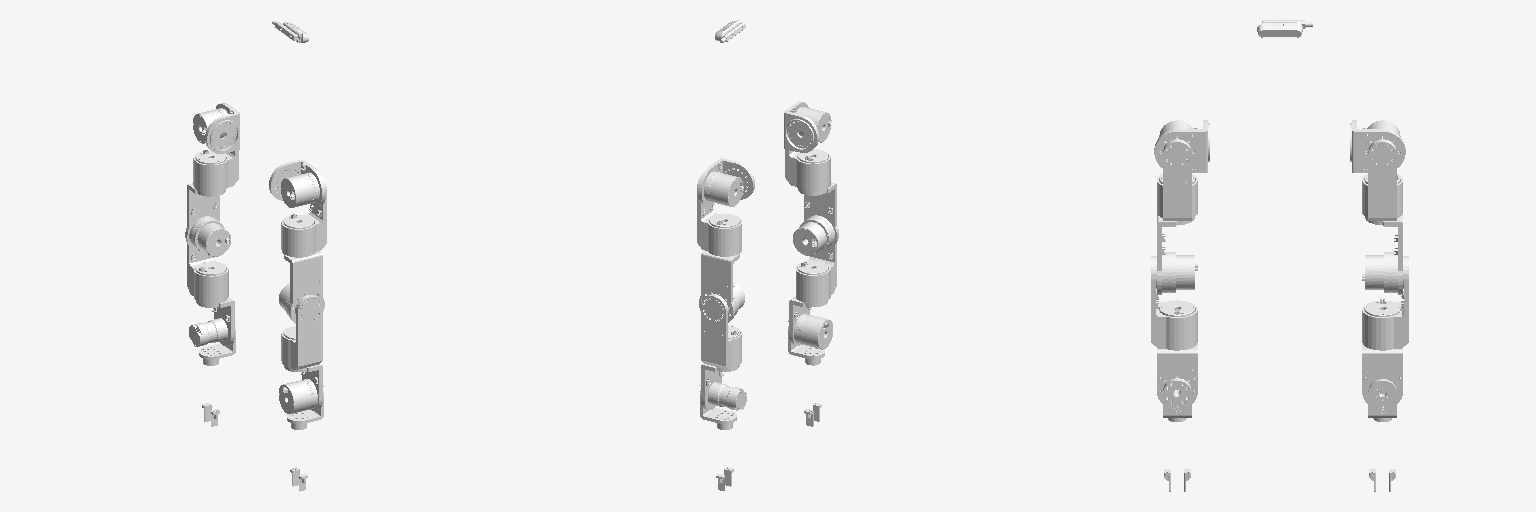
The robot description file, URDF, robot "ASMBRobot":
<?xml version="1.0" encoding="utf-8"?>
<!--
This URDF was automatically created by SolidWorks to URDF Exporter! Originally created by [author] ([email redacted])
Commit Version: 1.6.0-4-g7f85cfe  Build Version: 1.6.7995.38578
For more information, please see http://wiki.ros.org/sw_urdf_exporter
-->
<robot name="ASMBRobot">
	<webots>
		<plugin type="webots_ros2_control::Ros2Control" />
	</webots>
	<!-- Data files required by the UR driver -->
	<ros2_control name="WebotsControl" type="system">
		<hardware>
			<plugin>
				webots_ros2_control::Ros2ControlSystem
			</plugin>
		</hardware>
	</ros2_control>
	<!--
	<link name="base_footprint" />
	<joint name="base_joint" type="fixed">
	<parent link="base_footprint" />
	<child link="base_link" />
	<origin xyz="0.0 0.0 0.6" rpy="0 0 0" />
	</joint>
	-->
	<link name="base_link">
		<inertial>
			<origin xyz="-0.00023803 0.00019229 0.02" rpy="0 0 0" />
			<mass value="5.9383" />
			<inertia ixx="0.067685" ixy="2.6874E-08" ixz="-1.1686E-05" iyy="0.046713" iyz="1.2055E-06" izz="0.063819" />
		</inertial>
		<visual>
			<origin xyz="0 0 0" rpy="0 0 0" />
			<geometry>
				<mesh filename="package://assembly_robot/resource/asmb_robot/meshes/base_link.STL" />
			</geometry>
			<material name="">
				<color rgba="1 1 1 1" />
			</material>
		</visual>
		<collision>
			<origin xyz="0 0 0" rpy="0 0 0" />
			<geometry>
				<mesh filename="package://assembly_robot/resource/asmb_robot/meshes/base_link.STL" />
			</geometry>
		</collision>
	</link>
	<link name="head_camera_Link">
		<inertial>
			<origin xyz="0.013458 -0.061285 -0.0031032" rpy="0 0 0" />
			<mass value="0.061182" />
			<inertia ixx="3.911E-05" ixy="4.0531E-07" ixz="4.5885E-08" iyy="4.5618E-06" iyz="-9.4269E-08" izz="3.9266E-05" />
		</inertial>
		<visual>
			<origin xyz="0 0 0" rpy="0 0 0" />
			<geometry>
				<mesh filename="package://assembly_robot/resource/asmb_robot/meshes/head_camera_Link.STL" />
			</geometry>
			<material name="">
				<color rgba="1 1 1 1" />
			</material>
		</visual>
		<collision>
			<origin xyz="0 0 0" rpy="0 0 0" />
			<geometry>
				<mesh filename="package://assembly_robot/resource/asmb_robot/meshes/head_camera_Link.STL" />
			</geometry>
		</collision>
	</link>
	<joint name="head_camera_joint" type="revolute">
		<origin xyz="0.0875 0.065 1.6145" rpy="0 0 0" />
		<parent link="base_link" />
		<child link="head_camera_Link" />
		<axis xyz="0 1 0" />
		<limit lower="-1.57" upper="1.57" effort="100" velocity="1" />
	</joint>
	<link name="right_arm_Link1">
		<inertial>
			<origin xyz="0.011228 -0.043139 9.719E-07" rpy="0 0 0" />
			<mass value="0.37147" />
			<inertia ixx="0.00033016" ixy="4.0254E-05" ixz="-9.06E-08" iyy="0.0003504" iyz="-3.4341E-08" izz="0.00035955" />
		</inertial>
		<visual>
			<origin xyz="0 0 0" rpy="0 0 0" />
			<geometry>
				<mesh filename="package://assembly_robot/resource/asmb_robot/meshes/right_arm_Link1.STL" />
			</geometry>
			<material name="">
				<color rgba="1 1 1 1" />
			</material>
		</visual>
		<collision>
			<origin xyz="0 0 0" rpy="0 0 0" />
			<geometry>
				<mesh filename="package://assembly_robot/resource/asmb_robot/meshes/right_arm_Link1.STL" />
			</geometry>
		</collision>
	</link>
	<joint name="right_arm_joint1" type="revolute">
		<origin xyz="0 -0.1469 1.319" rpy="0 0 0" />
		<parent link="base_link" />
		<child link="right_arm_Link1" />
		<axis xyz="0 -1 0" />
		<limit lower="-3.14" upper="3.14" effort="100" velocity="1" />
	</joint>
	<link name="right_arm_Link2">
		<inertial>
			<origin xyz="-0.043622 -1.7909E-05 -0.10408" rpy="0 0 0" />
			<mass value="0.47028" />
			<inertia ixx="0.00068469" ixy="-3.4424E-08" ixz="-0.00011014" iyy="0.00076516" iyz="2.6661E-07" izz="0.00042244" />
		</inertial>
		<visual>
			<origin xyz="0 0 0" rpy="0 0 0" />
			<geometry>
				<mesh filename="package://assembly_robot/resource/asmb_robot/meshes/right_arm_Link2.STL" />
			</geometry>
			<material name="">
				<color rgba="1 1 1 1" />
			</material>
		</visual>
		<collision>
			<origin xyz="0 0 0" rpy="0 0 0" />
			<geometry>
				<mesh filename="package://assembly_robot/resource/asmb_robot/meshes/right_arm_Link2.STL" />
			</geometry>
		</collision>
	</link>
	<joint name="right_arm_joint2" type="revolute">
		<origin xyz="0.057 -0.0536 0" rpy="0 0 0" />
		<parent link="right_arm_Link1" />
		<child link="right_arm_Link2" />
		<axis xyz="-1 0 0" />
		<limit lower="0" upper="3.14" effort="100" velocity="1" />
	</joint>
	<link name="right_arm_Link3">
		<inertial>
			<origin xyz="-9.1848E-11 -0.025876 -0.041251" rpy="0 0 0" />
			<mass value="0.12999" />
			<inertia ixx="0.00030536" ixy="-5.266E-13" ixz="9.7607E-11" iyy="0.00034017" iyz="-5.0968E-05" izz="0.00011537" />
		</inertial>
		<visual>
			<origin xyz="0 0 0" rpy="0 0 0" />
			<geometry>
				<mesh filename="package://assembly_robot/resource/asmb_robot/meshes/right_arm_Link3.STL" />
			</geometry>
			<material name="">
				<color rgba="1 1 1 1" />
			</material>
		</visual>
		<collision>
			<origin xyz="0 0 0" rpy="0 0 0" />
			<geometry>
				<mesh filename="package://assembly_robot/resource/asmb_robot/meshes/right_arm_Link3.STL" />
			</geometry>
		</collision>
	</link>
	<joint name="right_arm_joint3" type="revolute">
		<origin xyz="-0.057 0 -0.15815" rpy="0 0 0" />
		<parent link="right_arm_Link2" />
		<child link="right_arm_Link3" />
		<axis xyz="0 0 -1" />
		<limit lower="-3.14" upper="3.14" effort="100" velocity="1" />
	</joint>
	<link name="right_arm_Link4">
		<inertial>
			<origin xyz="-1.7652E-05 0.039272 -0.10244" rpy="0 0 0" />
			<mass value="0.47713" />
			<inertia ixx="0.00079717" ixy="3.4424E-08" ixz="2.6365E-07" iyy="0.00075314" iyz="0.00011151" izz="0.00042587" />
		</inertial>
		<visual>
			<origin xyz="0 0 0" rpy="0 0 0" />
			<geometry>
				<mesh filename="package://assembly_robot/resource/asmb_robot/meshes/right_arm_Link4.STL" />
			</geometry>
			<material name="">
				<color rgba="1 1 1 1" />
			</material>
		</visual>
		<collision>
			<origin xyz="0 0 0" rpy="0 0 0" />
			<geometry>
				<mesh filename="package://assembly_robot/resource/asmb_robot/meshes/right_arm_Link4.STL" />
			</geometry>
		</collision>
	</link>
	<joint name="right_arm_joint4" type="revolute">
		<origin xyz="0 -0.052 -0.12135" rpy="0 0 0" />
		<parent link="right_arm_Link3" />
		<child link="right_arm_Link4" />
		<axis xyz="0 1 0" />
		<limit lower="-1.57" upper="1.57" effort="100" velocity="1" />
	</joint>
	<link name="right_arm_Link5">
		<inertial>
			<origin xyz="0.00832510191125416 -7.31447708185451E-06 -0.0647333672491731" rpy="0 0 0" />
			<mass value="0.36518735117001" />
			<inertia ixx="0.000323872947540741" ixy="-9.05997247207879E-08" ixz="3.06026099110981E-05" iyy="0.00034125199153883" iyz="3.03261364900966E-08" izz="0.000291712635621284" />
		</inertial>
		<visual>
			<origin xyz="0 0 0" rpy="0 0 0" />
			<geometry>
				<mesh filename="package://assembly_robot/resource/asmb_robot/meshes/right_arm_Link5.STL" />
			</geometry>
			<material name="">
				<color rgba="1 1 1 1" />
			</material>
		</visual>
		<collision>
			<origin xyz="0 0 0" rpy="0 0 0" />
			<geometry>
				<mesh filename="package://assembly_robot/resource/asmb_robot/meshes/right_arm_Link5.STL" />
			</geometry>
		</collision>
	</link>
	<joint name="right_arm_joint5" type="revolute">
		<origin xyz="0 0.052 -0.15815" rpy="0 0 0" />
		<parent link="right_arm_Link4" />
		<child link="right_arm_Link5" />
		<axis xyz="0 0 -1" />
		<limit lower="-3.14" upper="3.14" effort="100" velocity="1" />
	</joint>
	<link name="right_arm_Link6">
		<inertial>
			<origin xyz="-0.0284421308334516 -8.96964113533683E-06 -0.043090657269692" rpy="0 0 0" />
			<mass value="0.0772380702383185" />
			<inertia ixx="4.9946590615964E-05" ixy="-9.96241233945074E-09" ixz="-1.77191875127423E-05" iyy="6.34897666656896E-05" iyz="-1.90103058951182E-09" izz="4.59682165131106E-05" />
		</inertial>
		<visual>
			<origin xyz="0 0 0" rpy="0 0 0" />
			<geometry>
				<mesh filename="package://assembly_robot/resource/asmb_robot/meshes/right_arm_Link6.STL" />
			</geometry>
			<material name="">
				<color rgba="1 1 1 1" />
			</material>
		</visual>
		<collision>
			<origin xyz="0 0 0" rpy="0 0 0" />
			<geometry>
				<mesh filename="package://assembly_robot/resource/asmb_robot/meshes/right_arm_Link6.STL" />
			</geometry>
		</collision>
	</link>
	<joint name="right_arm_joint6" type="revolute">
		<origin xyz="0.05 0 -0.07985" rpy="0 0 0" />
		<parent link="right_arm_Link5" />
		<child link="right_arm_Link6" />
		<axis xyz="1 0 0" />
		<limit lower="-1.57" upper="1.57" effort="100" velocity="1" />
	</joint>
	<link name="right_arm_Link7">
		<inertial>
			<origin xyz="0.00714396022442265 0.00235971596269616 -0.073770341517848" rpy="0 0 0" />
			<mass value="0.235933563807994" />
			<inertia ixx="9.62557687249357E-05" ixy="1.48559640171866E-07" ixz="1.56010275519695E-06" iyy="6.87705932277823E-05" iyz="1.66743745289563E-08" izz="6.39512853060415E-05" />
		</inertial>
		<visual>
			<origin xyz="0 0 0" rpy="0 0 0" />
			<geometry>
				<mesh filename="package://assembly_robot/resource/asmb_robot/meshes/right_arm_Link7.STL" />
			</geometry>
			<material name="">
				<color rgba="1 1 1 1" />
			</material>
		</visual>
		<collision>
			<origin xyz="0 0 0" rpy="0 0 0" />
			<geometry>
				<mesh filename="package://assembly_robot/resource/asmb_robot/meshes/right_arm_Link7.STL" />
			</geometry>
		</collision>
	</link>
	<joint name="right_arm_joint7" type="revolute">
		<origin xyz="-0.05 0 -0.067" rpy="0 0 0" />
		<parent link="right_arm_Link6" />
		<child link="right_arm_Link7" />
		<axis xyz="0 0 -1" />
		<limit lower="-3.14" upper="3.14" effort="100" velocity="1" />
	</joint>
	<link name="right_finger_link1">
		<inertial>
			<origin xyz="0.00378952208500735 0.18602302823187 0.213635882113623" rpy="0 0 0" />
			<mass value="10.2661535963727" />
			<inertia ixx="3.02922806964106" ixy="-6.90053325021604E-05" ixz="-0.0136693947650833" iyy="2.82305694426368" iyz="-0.00110155202987456" izz="0.262090473602717" />
		</inertial>
		<visual>
			<origin xyz="0 0 0" rpy="0 0 0" />
			<geometry>
				<mesh filename="package://assembly_robot/resource/asmb_robot/meshes/right_finger_link1.STL" />
			</geometry>
			<material name="">
				<color rgba="1 1 1 1" />
			</material>
		</visual>
		<collision>
			<origin xyz="0 0 0" rpy="0 0 0" />
			<geometry>
				<mesh filename="package://assembly_robot/resource/asmb_robot/meshes/right_finger_link1.STL" />
			</geometry>
		</collision>
	</link>
	<joint name="right_finger_joint1" type="prismatic">
		<origin xyz="0 0.013 -0.1435" rpy="0 0 0" />
		<parent link="right_arm_Link7" />
		<child link="right_finger_link1" />
		<axis xyz="0 1 0" />
		<limit lower="-0.013" upper="0" effort="100" velocity="1" />
	</joint>
	<link name="right_finger_link2">
		<inertial>
			<origin xyz="0.00378952208500025 0.21202302823187 0.213635882113621" rpy="0 0 0" />
			<mass value="10.2661535963727" />
			<inertia ixx="3.02922806964106" ixy="-6.90053325021583E-05" ixz="-0.0136693947650833" iyy="2.82305694426368" iyz="-0.00110155202987454" izz="0.262090473602717" />
		</inertial>
		<visual>
			<origin xyz="0 0 0" rpy="0 0 0" />
			<geometry>
				<mesh filename="package://assembly_robot/resource/asmb_robot/meshes/right_finger_link2.STL" />
			</geometry>
			<material name="">
				<color rgba="1 1 1 1" />
			</material>
		</visual>
		<collision>
			<origin xyz="0 0 0" rpy="0 0 0" />
			<geometry>
				<mesh filename="package://assembly_robot/resource/asmb_robot/meshes/right_finger_link2.STL" />
			</geometry>
		</collision>
	</link>
	<joint name="right_finger_joint2" type="prismatic">
		<origin xyz="0 -0.013 -0.1435" rpy="0 0 0" />
		<parent link="right_arm_Link7" />
		<child link="right_finger_link2" />
		<axis xyz="0 1 0" />
		<limit lower="0" upper="0.013" effort="100" velocity="1" />
	</joint>
	<link name="left_arm_Link1">
		<inertial>
			<origin xyz="0 0 0" rpy="0 0 0" />
			<mass value="0" />
			<inertia ixx="0" ixy="0" ixz="0" iyy="0" iyz="0" izz="0" />
		</inertial>
		<visual>
			<origin xyz="0 0 0" rpy="0 0 0" />
			<geometry>
				<mesh filename="package://assembly_robot/resource/asmb_robot/meshes/left_arm_Link1.STL" />
			</geometry>
			<material name="">
				<color rgba="1 1 1 1" />
			</material>
		</visual>
		<collision>
			<origin xyz="0 0 0" rpy="0 0 0" />
			<geometry>
				<mesh filename="package://assembly_robot/resource/asmb_robot/meshes/left_arm_Link1.STL" />
			</geometry>
		</collision>
	</link>
	<joint name="left_arm_joint1" type="revolute">
		<origin xyz="0 0.1469 1.319" rpy="0 0 0" />
		<parent link="base_link" />
		<child link="left_arm_Link1" />
		<axis xyz="0 1 0" />
		<limit lower="-3.14" upper="3.14" effort="100" velocity="1" />
	</joint>
	<link name="left_arm_Link2">
		<inertial>
			<origin xyz="-0.0436219172708804 -1.79087728571503E-05 -0.104081408006254" rpy="0 0 0" />
			<mass value="0.470284076871094" />
			<inertia ixx="0.000684685263285664" ixy="-3.44237436292327E-08" ixz="-0.000110141059333714" iyy="0.00076515581421316" iyz="2.6754057934791E-07" izz="0.000422436110263861" />
		</inertial>
		<visual>
			<origin xyz="0 0 0" rpy="0 0 0" />
			<geometry>
				<mesh filename="package://assembly_robot/resource/asmb_robot/meshes/left_arm_Link2.STL" />
			</geometry>
			<material name="">
				<color rgba="1 1 1 1" />
			</material>
		</visual>
		<collision>
			<origin xyz="0 0 0" rpy="0 0 0" />
			<geometry>
				<mesh filename="package://assembly_robot/resource/asmb_robot/meshes/left_arm_Link2.STL" />
			</geometry>
		</collision>
	</link>
	<joint name="left_arm_joint2" type="revolute">
		<origin xyz="0.057 0.0536 0" rpy="0 0 0" />
		<parent link="left_arm_Link1" />
		<child link="left_arm_Link2" />
		<axis xyz="-1 0 0" />
		<limit lower="-3.14" upper="0" effort="100" velocity="1" />
	</joint>
	<link name="left_arm_Link3">
		<inertial>
			<origin xyz="1.00064317942739E-10 0.025875590268055 -0.0412507797749025" rpy="0 0 0" />
			<mass value="0.129990371419528" />
			<inertia ixx="0.00030535462683607" ixy="-5.23857015698888E-13" ixz="-4.57957977787833E-09" iyy="0.000340167432870768" iyz="5.09681758668033E-05" izz="0.000115373694611261" />
		</inertial>
		<visual>
			<origin xyz="0 0 0" rpy="0 0 0" />
			<geometry>
				<mesh filename="package://assembly_robot/resource/asmb_robot/meshes/left_arm_Link3.STL" />
			</geometry>
			<material name="">
				<color rgba="1 1 1 1" />
			</material>
		</visual>
		<collision>
			<origin xyz="0 0 0" rpy="0 0 0" />
			<geometry>
				<mesh filename="package://assembly_robot/resource/asmb_robot/meshes/left_arm_Link3.STL" />
			</geometry>
		</collision>
	</link>
	<joint name="left_arm_joint3" type="revolute">
		<origin xyz="-0.057 0 -0.15815" rpy="0 0 0" />
		<parent link="left_arm_Link2" />
		<child link="left_arm_Link3" />
		<axis xyz="0 0 -1" />
		<limit lower="-3.14" upper="3.14" effort="100" velocity="1" />
	</joint>
	<link name="left_arm_Link4">
		<inertial>
			<origin xyz="1.12949191619499E-05 -0.0392744601445019 -0.10245015779141" rpy="0 0 0" />
			<mass value="0.477207553120282" />
			<inertia ixx="0.000797172405509101" ixy="3.44237427553357E-08" ixz="-2.66192892767085E-07" iyy="0.000753136152735815" iyz="-0.00011150721555429" izz="0.000425870669836482" />
		</inertial>
		<visual>
			<origin xyz="0 0 0" rpy="0 0 0" />
			<geometry>
				<mesh filename="package://assembly_robot/resource/asmb_robot/meshes/left_arm_Link4.STL" />
			</geometry>
			<material name="">
				<color rgba="1 1 1 1" />
			</material>
		</visual>
		<collision>
			<origin xyz="0 0 0" rpy="0 0 0" />
			<geometry>
				<mesh filename="package://assembly_robot/resource/asmb_robot/meshes/left_arm_Link4.STL" />
			</geometry>
		</collision>
	</link>
	<joint name="left_arm_joint4" type="revolute">
		<origin xyz="0 0.052 -0.12135" rpy="0 0 0" />
		<parent link="left_arm_Link3" />
		<child link="left_arm_Link4" />
		<axis xyz="0 -1 0" />
		<limit lower="-1.57" upper="1.57" effort="100" velocity="1" />
	</joint>
	<link name="left_arm_Link5">
		<inertial>
			<origin xyz="0.0246929115734381 2.54604670679726E-12 -0.0280331375827695" rpy="0 0 0" />
			<mass value="0.114969387635768" />
			<inertia ixx="0.000214486666563017" ixy="8.18193675974143E-16" ixz="3.95787812577454E-05" iyy="0.000191507007785459" iyz="-8.02454238603924E-10" izz="0.000100328294143232" />
		</inertial>
		<visual>
			<origin xyz="0 0 0" rpy="0 0 0" />
			<geometry>
				<mesh filename="package://assembly_robot/resource/asmb_robot/meshes/left_arm_Link5.STL" />
			</geometry>
			<material name="">
				<color rgba="1 1 1 1" />
			</material>
		</visual>
		<collision>
			<origin xyz="0 0 0" rpy="0 0 0" />
			<geometry>
				<mesh filename="package://assembly_robot/resource/asmb_robot/meshes/left_arm_Link5.STL" />
			</geometry>
		</collision>
	</link>
	<joint name="left_arm_joint5" type="revolute">
		<origin xyz="0 -0.052 -0.162" rpy="0 0 0" />
		<parent link="left_arm_Link4" />
		<child link="left_arm_Link5" />
		<axis xyz="0 0 -1" />
		<limit lower="-3.14" upper="3.14" effort="100" velocity="1" />
	</joint>
	<link name="left_arm_Link6">
		<inertial>
			<origin xyz="-0.0205835191216947 3.86713536193461E-09 -0.0390232072359369" rpy="0 0 0" />
			<mass value="0.0852865509434714" />
			<inertia ixx="5.88864912715646E-05" ixy="-1.04321646173082E-08" ixz="-2.04059095589276E-05" iyy="7.27736472314995E-05" iyz="-8.94605628178208E-09" izz="4.77719813940709E-05" />
		</inertial>
		<visual>
			<origin xyz="0 0 0" rpy="0 0 0" />
			<geometry>
				<mesh filename="package://assembly_robot/resource/asmb_robot/meshes/left_arm_Link6.STL" />
			</geometry>
			<material name="">
				<color rgba="1 1 1 1" />
			</material>
		</visual>
		<collision>
			<origin xyz="0 0 0" rpy="0 0 0" />
			<geometry>
				<mesh filename="package://assembly_robot/resource/asmb_robot/meshes/left_arm_Link6.STL" />
			</geometry>
		</collision>
	</link>
	<joint name="left_arm_joint6" type="revolute">
		<origin xyz="0.044 0 -0.076" rpy="0 0 0" />
		<parent link="left_arm_Link5" />
		<child link="left_arm_Link6" />
		<axis xyz="1 0 0" />
		<limit lower="-1.57" upper="1.57" effort="100" velocity="1" />
	</joint>
	<link name="left_arm_link7">
		<inertial>
			<origin xyz="0.00714707073326404 -0.00229274231656032 -0.0737703415178471" rpy="0 0 0" />
			<mass value="0.235933563807994" />
			<inertia ixx="9.62557687250713E-05" ixy="1.48559640115472E-07" ixz="1.56023706110913E-06" iyy="6.87705932281028E-05" iyz="2.86685188302253E-08" izz="6.39512853061686E-05" />
		</inertial>
		<visual>
			<origin xyz="0 0 0" rpy="0 0 0" />
			<geometry>
				<mesh filename="package://assembly_robot/resource/asmb_robot/meshes/left_arm_link7.STL" />
			</geometry>
			<material name="">
				<color rgba="1 1 1 1" />
			</material>
		</visual>
		<collision>
			<origin xyz="0 0 0" rpy="0 0 0" />
			<geometry>
				<mesh filename="package://assembly_robot/resource/asmb_robot/meshes/left_arm_link7.STL" />
			</geometry>
		</collision>
	</link>
	<joint name="left_arm_joint7" type="revolute">
		<origin xyz="-0.044 0 -0.067" rpy="0 0 0" />
		<parent link="left_arm_Link6" />
		<child link="left_arm_link7" />
		<axis xyz="0 0 -1" />
		<limit lower="-3.14" upper="3.14" effort="100" velocity="1" />
	</joint>
	<link name="left_finger_link1">
		<inertial>
			<origin xyz="6.80011602582908E-16 -0.00411763664848558 0.00481108166244198" rpy="0 0 0" />
			<mass value="0.0040452362516926" />
			<inertia ixx="6.10992226146284E-07" ixy="-1.55626075658646E-20" ixz="3.51285395851822E-21" iyy="6.5986866626256E-07" iyz="8.70645993041956E-08" izz="1.6021830179866E-07" />
		</inertial>
		<visual>
			<origin xyz="0 0 0" rpy="0 0 0" />
			<geometry>
				<mesh filename="package://assembly_robot/resource/asmb_robot/meshes/left_finger_link1.STL" />
			</geometry>
			<material name="">
				<color rgba="1 1 1 1" />
			</material>
		</visual>
		<collision>
			<origin xyz="0 0 0" rpy="0 0 0" />
			<geometry>
				<mesh filename="package://assembly_robot/resource/asmb_robot/meshes/left_finger_link1.STL" />
			</geometry>
		</collision>
	</link>
	<joint name="left_finger_joint1" type="prismatic">
		<origin xyz="0 -0.013 -0.1435" rpy="0 0 0" />
		<parent link="left_arm_link7" />
		<child link="left_finger_link1" />
		<axis xyz="0 -1 0" />
		<limit lower="-0.013" upper="0" effort="100" velocity="1" />
	</joint>
	<link name="left_finger_link2">
		<inertial>
			<origin xyz="-1.19348975147204E-15 0.00411763664848627 0.00481108166244132" rpy="0 0 0" />
			<mass value="0.0040452362516926" />
			<inertia ixx="6.10992226146284E-07" ixy="-6.71589876456661E-21" ixz="4.25082523803841E-20" iyy="6.59868666262535E-07" iyz="-8.70645993042676E-08" izz="1.60218301798685E-07" />
		</inertial>
		<visual>
			<origin xyz="0 0 0" rpy="0 0 0" />
			<geometry>
				<mesh filename="package://assembly_robot/resource/asmb_robot/meshes/left_finger_link2.STL" />
			</geometry>
			<material name="">
				<color rgba="1 1 1 1" />
			</material>
		</visual>
		<collision>
			<origin xyz="0 0 0" rpy="0 0 0" />
			<geometry>
				<mesh filename="package://assembly_robot/resource/asmb_robot/meshes/left_finger_link2.STL" />
			</geometry>
		</collision>
	</link>
	<joint name="left_finger_joint2" type="prismatic">
		<origin xyz="0 0.013 -0.1435" rpy="0 0 0" />
		<parent link="left_arm_link7" />
		<child link="left_finger_link2" />
		<axis xyz="0 -1 0" />
		<limit lower="0" upper="0.013" effort="100" velocity="1" />
	</joint>
</robot>

--- Render facts (derived) ---
Views: 3 orthographic renders of the robot side by side, from view 1: azimuth 30°, elevation 25°; view 2: azimuth 150°, elevation 25°; view 3: azimuth 270°, elevation 25°.
Robot: ASMBRobot — 20 links, 19 joints (15 revolute, 4 prismatic); root link base_link; default pose: all joints at 0.
Visible links, largest first — view 1: right_arm_Link4, left_arm_Link3, right_arm_Link1, right_arm_Link2, left_arm_Link4, left_arm_Link1, right_arm_Link3, left_arm_Link2, right_arm_Link5, left_arm_Link5, left_arm_Link6; view 2: left_arm_Link4, right_arm_Link3, left_arm_Link1, left_arm_Link2, right_arm_Link4, right_arm_Link1, left_arm_Link3, right_arm_Link2, right_arm_Link5, left_arm_Link5, left_arm_Link6, right_arm_Link6; view 3: right_arm_Link2, left_arm_Link2, left_arm_Link4, right_arm_Link4, left_arm_Link3, right_arm_Link3, left_arm_Link1, right_arm_Link1, left_arm_Link5, right_arm_Link5, right_arm_Link6, left_arm_Link6 (+1 smaller).
Link boxes in pixels (x1,y1,x2,y2): right_arm_Link4: (281,295,322,369); left_arm_Link3: (185,183,230,256); right_arm_Link1: (269,159,325,207); right_arm_Link2: (281,176,326,257); left_arm_Link4: (187,244,228,303); left_arm_Link1: (193,103,239,153); right_arm_Link3: (279,251,324,323); left_arm_Link2: (193,150,238,192); right_arm_Link5: (279,364,323,414); left_arm_Link5: (189,297,236,346); left_arm_Link6: (199,326,235,365); left_arm_Link4: (701,294,741,369); right_arm_Link3: (793,182,838,255); left_arm_Link1: (698,158,754,206); left_arm_Link2: (697,175,741,256); right_arm_Link4: (796,243,836,303); right_arm_Link1: (784,101,831,152); left_arm_Link3: (699,250,744,322); right_arm_Link2: (785,149,830,191); right_arm_Link5: (788,296,832,349); left_arm_Link5: (699,364,746,410); left_arm_Link6: (700,390,736,429); right_arm_Link6: (788,326,824,365); right_arm_Link2: (1157,139,1197,220); left_arm_Link2: (1362,139,1402,220); left_arm_Link4: (1362,256,1408,350); right_arm_Link4: (1151,256,1197,350); left_arm_Link3: (1362,214,1402,294); right_arm_Link3: (1157,214,1197,294); left_arm_Link1: (1350,120,1405,172); right_arm_Link1: (1154,120,1209,172); left_arm_Link5: (1362,343,1402,403); right_arm_Link5: (1157,343,1197,403); right_arm_Link6: (1163,378,1191,421); left_arm_Link6: (1368,379,1396,421).
Size in the robot's own frame: 0.1649 by 0.505 by 1.05 metres.
Meshes: 20 distinct files referenced, 17 mesh visuals loaded (17 binary STL); not drawn: 3 (reference not matched to a file when rendering).